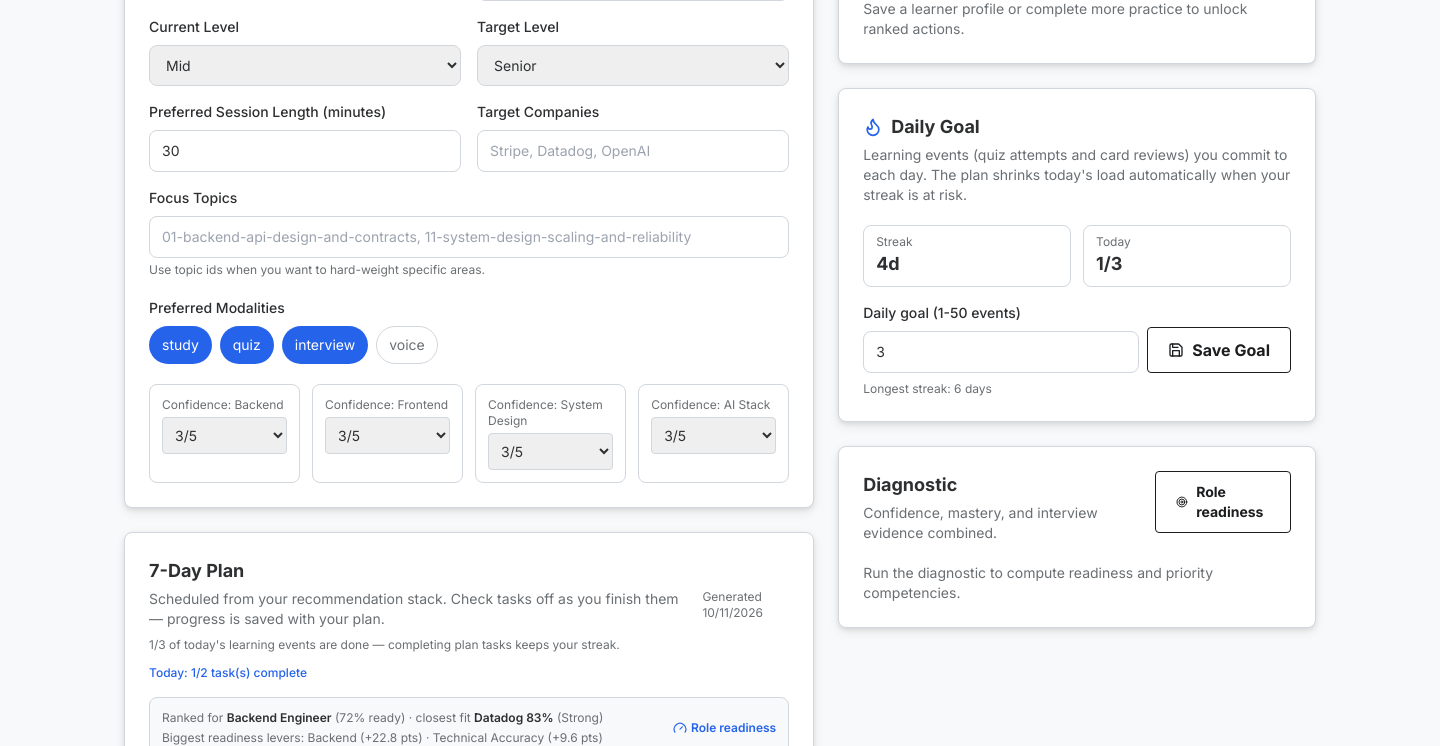
Test case: StudyPlanPage › edits the daily goal through the gamification API
(page scrolled)
Replace the text in the number field labelled "Daily goal (1-50 events)" with "5" at (1001, 352), box [863, 331, 1139, 373]
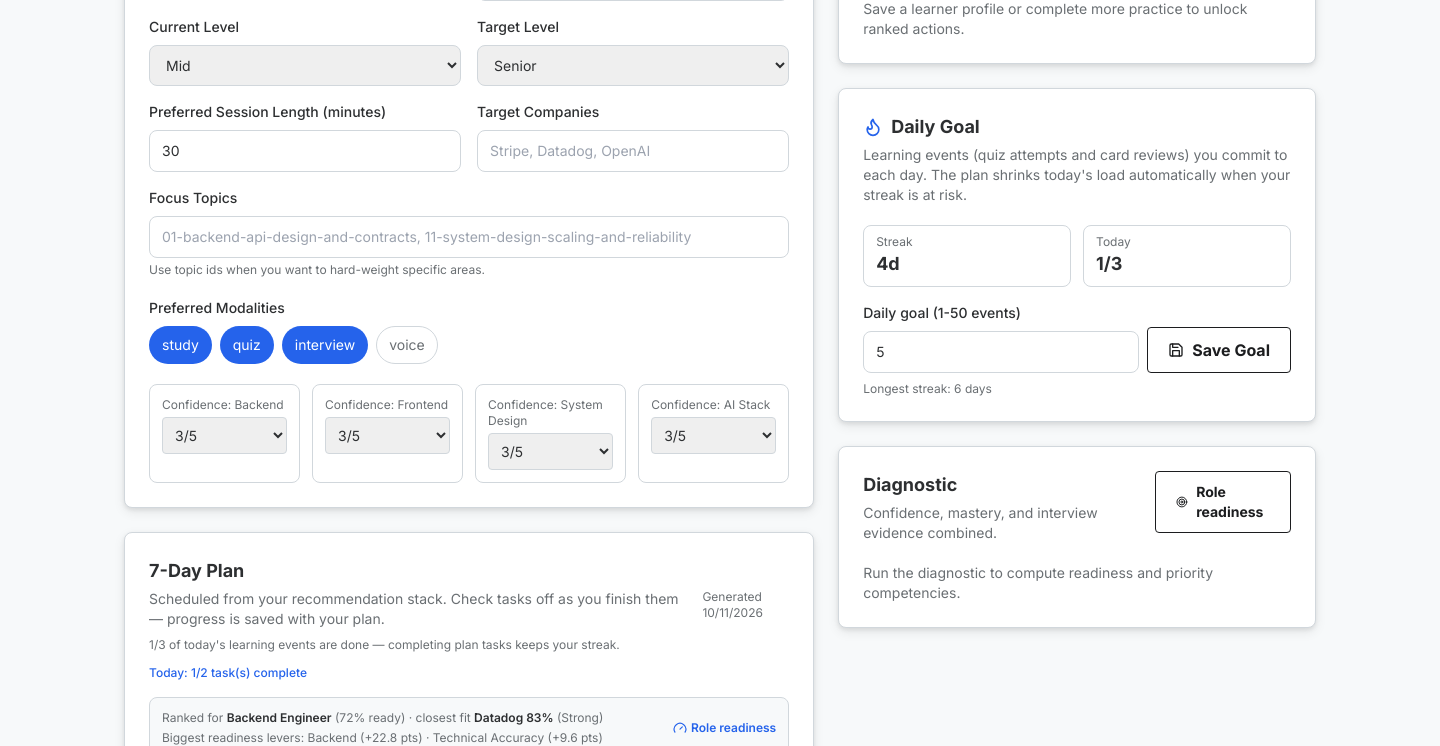
Click the button "Save Goal" at (1219, 350), box [1147, 327, 1291, 373]
(page scrolled)
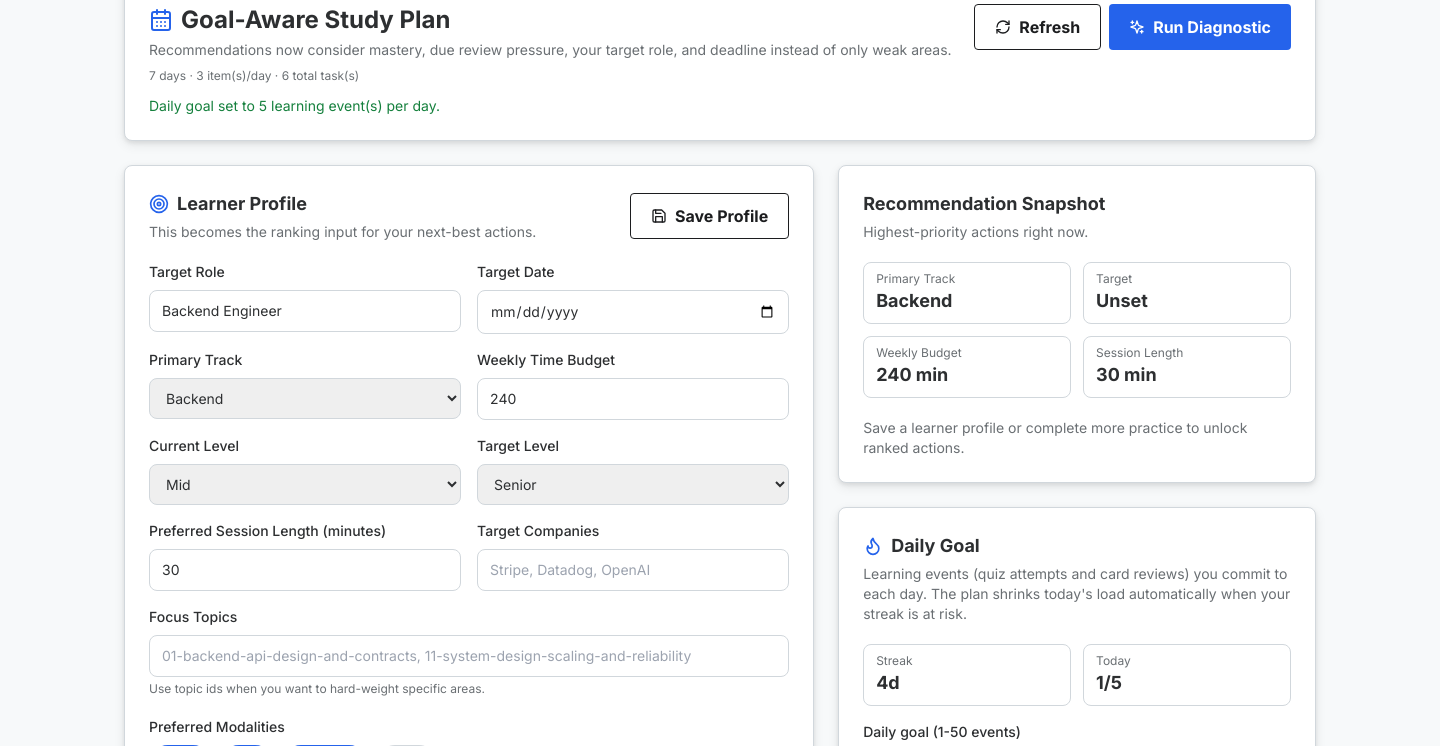
Check: the text "Daily goal set to 5 learning event(s) per day." is shown, box [149, 97, 440, 114]
